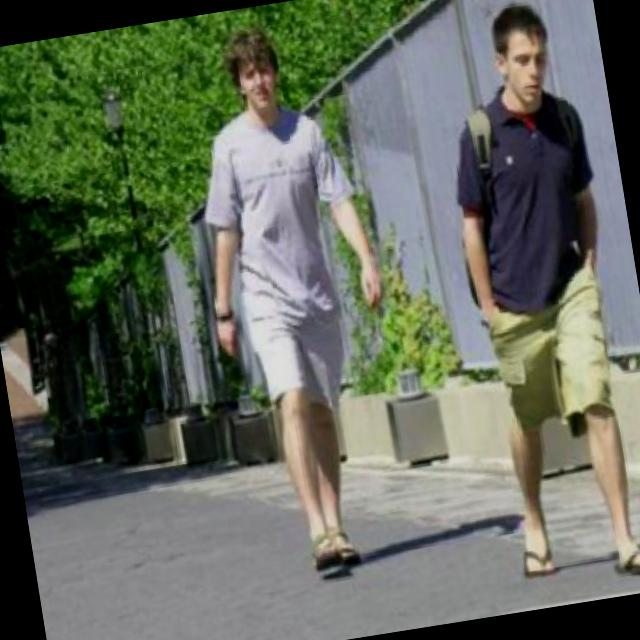Person: (168, 11, 422, 598), (431, 0, 640, 590)
